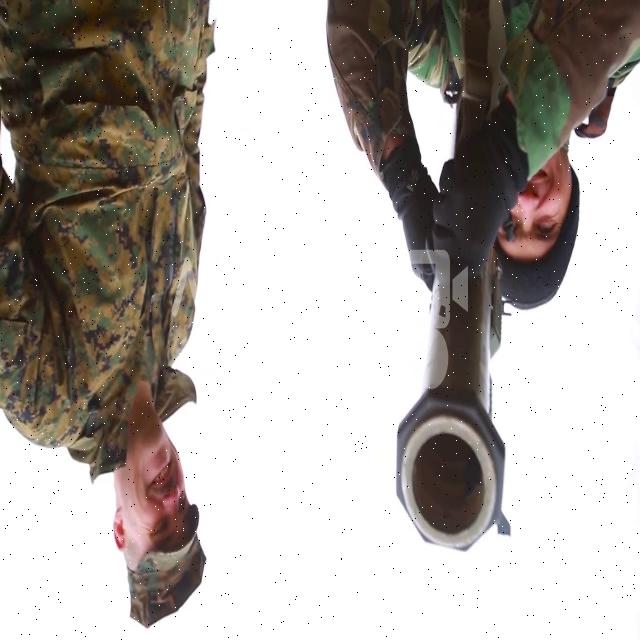bazooka: (386, 57, 510, 588)
